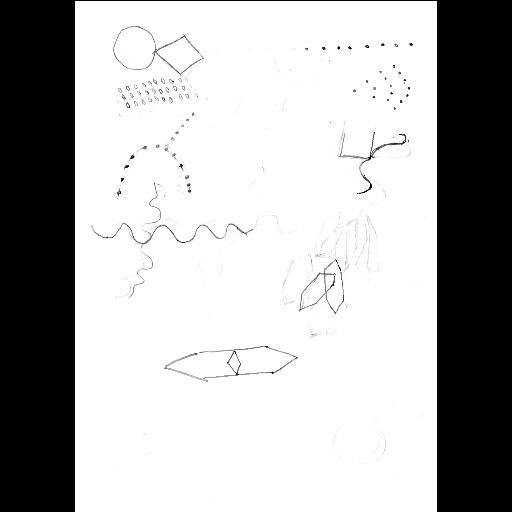shape-1: (112, 16, 206, 78)
shape-2: (298, 38, 422, 54)
shape-3: (114, 73, 192, 115)
shape-4: (352, 58, 412, 116)
shape-5: (334, 122, 410, 200)
shape-6: (110, 108, 198, 200)
shape-7: (85, 176, 255, 300)
shape-8: (294, 254, 350, 324)
shape-9: (162, 340, 300, 388)
